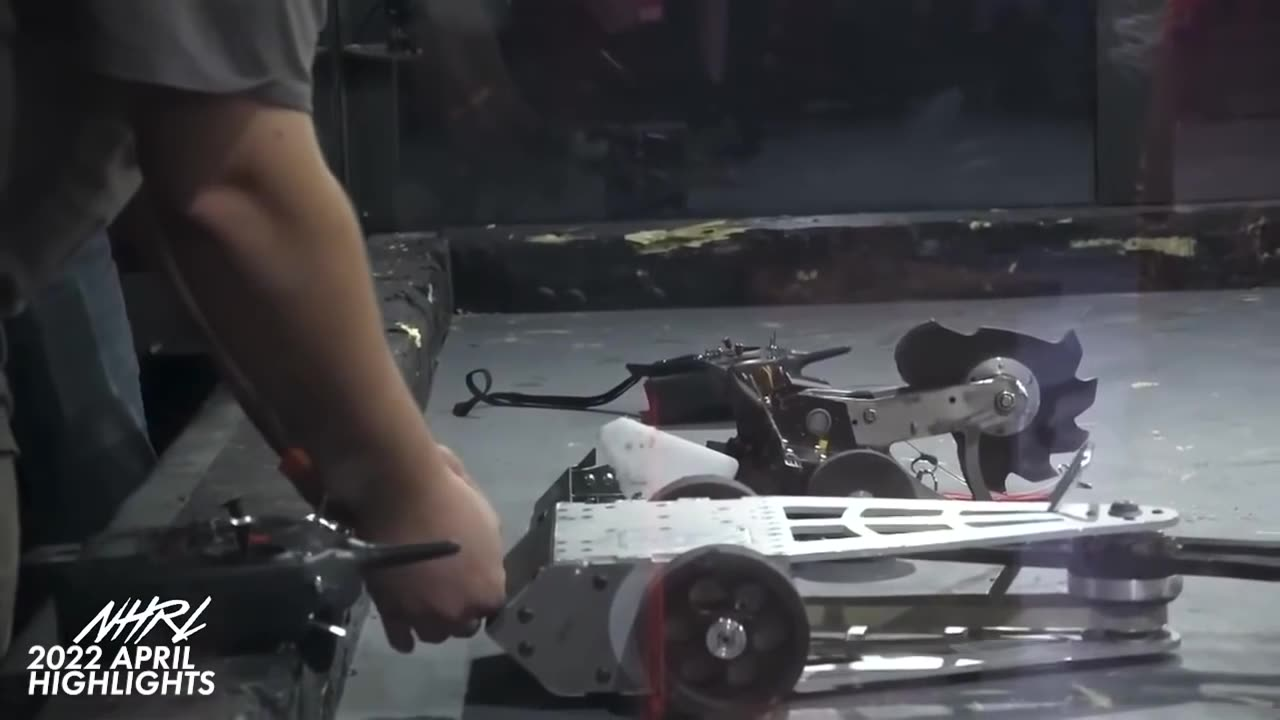combatbot: (486, 501, 1185, 714), (725, 318, 1099, 510)
